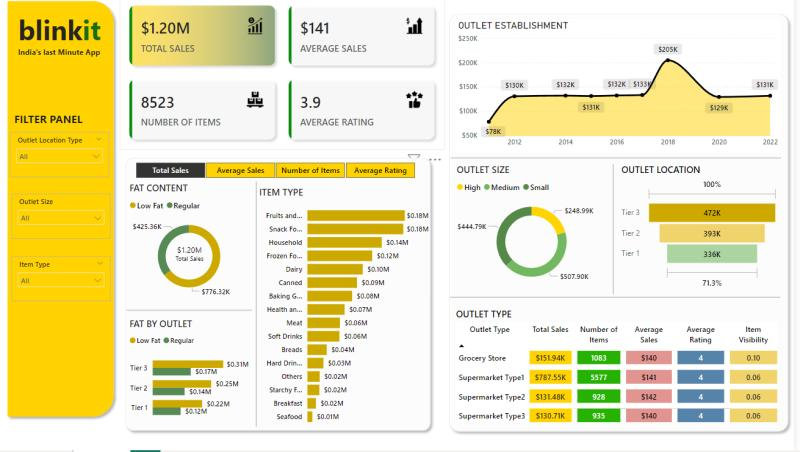

The page's visual inventory and layout, read from the dashboard file:
{"tool":"powerbi","page":{"name":"Page 1","canvas":[1400,800],"ordinal":0},"visuals":[{"type":"shape","box":[10,0,205,750],"z":0},{"type":"textbox","box":[22.5,21,174.1,82.5],"z":1000},{"type":"textbox","box":[3,84,213.1,37.5],"z":2000},{"type":"cardVisual","fields":{"Data":["BlinkIT Grocery Data.Total Sales","BlinkIT Grocery Data.Average Sales","BlinkIT Grocery Data.Number of Items","BlinkIT Grocery Data.Average Rating"]},"box":[216.1,0,570.3,270.2],"z":3000},{"type":"shape","box":[217.2,276.1,553.6,498.7],"z":4000},{"type":"donutChart","title":"FAT CONTENT","fields":{"Y":["BlinkIT Grocery Data.Total Sales"],"Category":["BlinkIT Grocery Data.Item Fat Content"]},"box":[227.9,327.1,219.8,211.8],"z":5000},{"type":"slicer","fields":{"Values":["Metrics.Metrics"]},"box":[218.5,286.9,540.2,40.2],"z":6000},{"type":"cardVisual","fields":{"Data":["BlinkIT Grocery Data.Total Sales"]},"box":[278.8,420.9,119.3,64.3],"z":7000},{"type":"clusteredBarChart","title":"FAT BY OUTLET","fields":{"Y":["BlinkIT Grocery Data.Total Sales"],"Category":["BlinkIT Grocery Data.Outlet Location Type"],"Series":["BlinkIT Grocery Data.Item Fat Content"]},"box":[227.9,565.7,219.8,193],"z":8000},{"type":"shape","box":[227.9,542.9,219.8,21.4],"z":9000},{"type":"shape","box":[447.7,327.1,16.1,431.6],"z":10000},{"type":"barChart","title":"ITEM TYPE","fields":{"Y":["BlinkIT Grocery Data.Total Sales"],"Category":["BlinkIT Grocery Data.Item Type"]},"box":[455.8,333.8,308.3,431.6],"z":11000},{"type":"shape","box":[785.5,22.8,613.9,753.4],"z":12000},{"type":"lineChart","title":"OUTLET ESTABLISHMENT","fields":{"Category":["BlinkIT Grocery Data.Outlet Establishment Year"],"Y":["BlinkIT Grocery Data.Total Sales"]},"box":[805.6,41.6,572.4,234.6],"z":13000},{"type":"shape","box":[797.6,280.2,580.4,10.7],"z":14000},{"type":"donutChart","title":"OUTLET SIZE","fields":{"Y":["BlinkIT Grocery Data.Total Sales"],"Series":["BlinkIT Grocery Data.Outlet Size"]},"box":[803,294.9,273.5,225.2],"z":15000},{"type":"shape","box":[1077.8,296.2,10.7,229.2],"z":16000},{"type":"funnel","title":"OUTLET LOCATION","fields":{"Y":["Sum(BlinkIT Grocery Data.Sales)"],"Category":["BlinkIT Grocery Data.Outlet Location Type"]},"box":[1092.5,294.9,285.5,225.2],"z":17000},{"type":"shape","box":[796.3,525.5,580.4,10.7],"z":18000},{"type":"pivotTable","title":"OUTLET TYPE","fields":{"Values":["BlinkIT Grocery Data.Total Sales","BlinkIT Grocery Data.Number of Items","BlinkIT Grocery Data.Average Sales","BlinkIT Grocery Data.Average Rating","Avg(BlinkIT Grocery Data.Item Visibility)"],"Rows":["BlinkIT Grocery Data.Outlet Type"]},"box":[801.6,548.3,576.4,210.5],"z":19000},{"type":"slicer","fields":{"Values":["BlinkIT Grocery Data.Outlet Location Type"]},"box":[22.8,239.9,174.3,79.1],"z":20000},{"type":"slicer","fields":{"Values":["BlinkIT Grocery Data.Outlet Size"]},"box":[25.5,348.5,174.3,79.1],"z":21000},{"type":"slicer","fields":{"Values":["BlinkIT Grocery Data.Item Type"]},"box":[25.5,458.4,174.3,79.1],"z":22000},{"type":"textbox","box":[25.5,199.7,151.5,37.5],"z":22001}]}

Visuals, with their boxes in screenshot pixels (x1, y1, x2, y2), scaled from the page's 1400x800 canvas onto the 800x452 screenshot:
shape: x1=6 y1=0 x2=123 y2=424
textbox: x1=13 y1=12 x2=112 y2=58
textbox: x1=2 y1=47 x2=123 y2=69
cardVisual - BlinkIT Grocery Data.Total Sales x BlinkIT Grocery Data.Average Sales: x1=123 y1=0 x2=449 y2=153
shape: x1=124 y1=156 x2=440 y2=438
"FAT CONTENT" donutChart: x1=130 y1=185 x2=256 y2=304
slicer - Metrics.Metrics: x1=125 y1=162 x2=434 y2=185
cardVisual - BlinkIT Grocery Data.Total Sales: x1=159 y1=238 x2=227 y2=274
"FAT BY OUTLET" clusteredBarChart: x1=130 y1=320 x2=256 y2=429
shape: x1=130 y1=307 x2=256 y2=319
shape: x1=256 y1=185 x2=265 y2=429
"ITEM TYPE" barChart: x1=260 y1=189 x2=437 y2=432
shape: x1=449 y1=13 x2=799 y2=439
"OUTLET ESTABLISHMENT" lineChart: x1=460 y1=24 x2=787 y2=156
shape: x1=456 y1=158 x2=787 y2=164
"OUTLET SIZE" donutChart: x1=459 y1=167 x2=615 y2=294
shape: x1=616 y1=167 x2=622 y2=297
"OUTLET LOCATION" funnel: x1=624 y1=167 x2=787 y2=294
shape: x1=455 y1=297 x2=787 y2=303
"OUTLET TYPE" pivotTable: x1=458 y1=310 x2=787 y2=429
slicer - BlinkIT Grocery Data.Outlet Location Type: x1=13 y1=136 x2=113 y2=180
slicer - BlinkIT Grocery Data.Outlet Size: x1=15 y1=197 x2=114 y2=242
slicer - BlinkIT Grocery Data.Item Type: x1=15 y1=259 x2=114 y2=304
textbox: x1=15 y1=113 x2=101 y2=134
